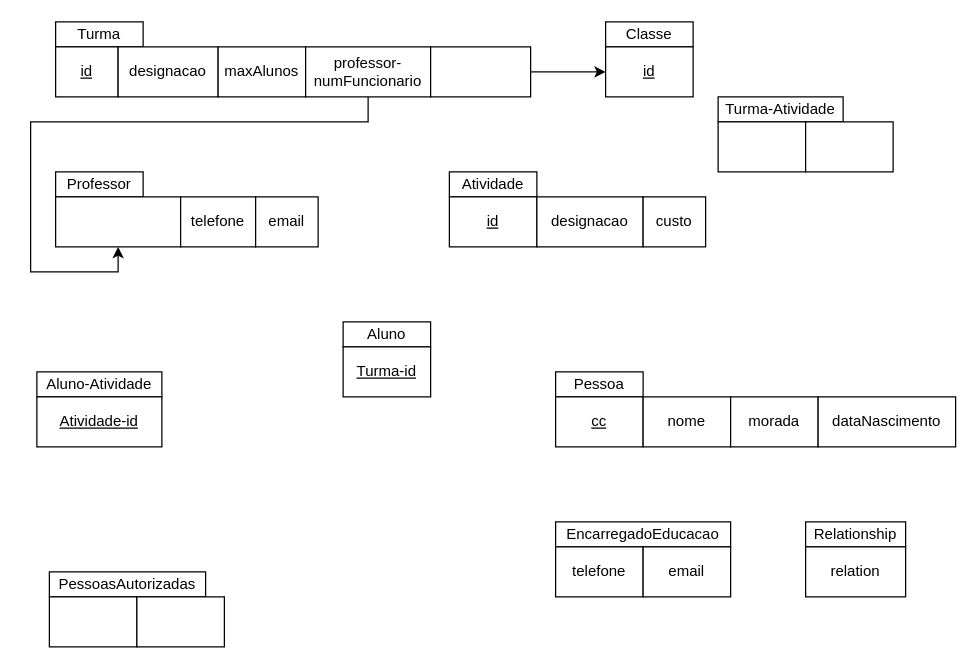
The diagram is 978 pixels wide and 669 high, and some of its shapes have lost their labels. The shapes that lost their labels are listed below. From the top down, each one's centre as x and y in pixels, then its label:
At point (480, 71): "Classe-id".
At point (117, 221): "numFuncionario".
